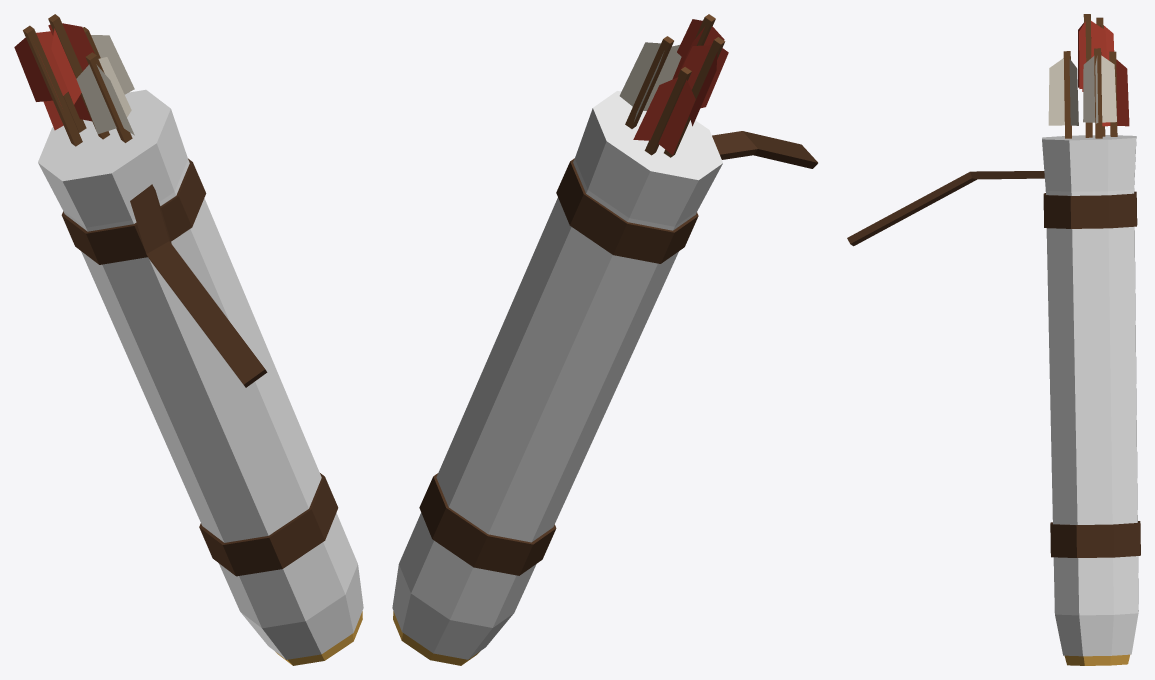
The model's file is offhand_quiver.glb.
3 views of the same model, side by side, from view 1: azimuth 30°, elevation 25°; view 2: azimuth 150°, elevation 25°; view 3: azimuth 270°, elevation 25° (orthographic). The views are drawn at different scales.
Parts seen in each view (by area): view 1: offhand_quiver; view 2: offhand_quiver; view 3: offhand_quiver.
Part boxes in pixels (<box>): offhand_quiver: <box>14,14,363,665</box>; offhand_quiver: <box>392,14,817,665</box>; offhand_quiver: <box>847,14,1140,665</box>.
Bounding box in the file's own units: 0.3657 × 0.7475 × 0.3568.
